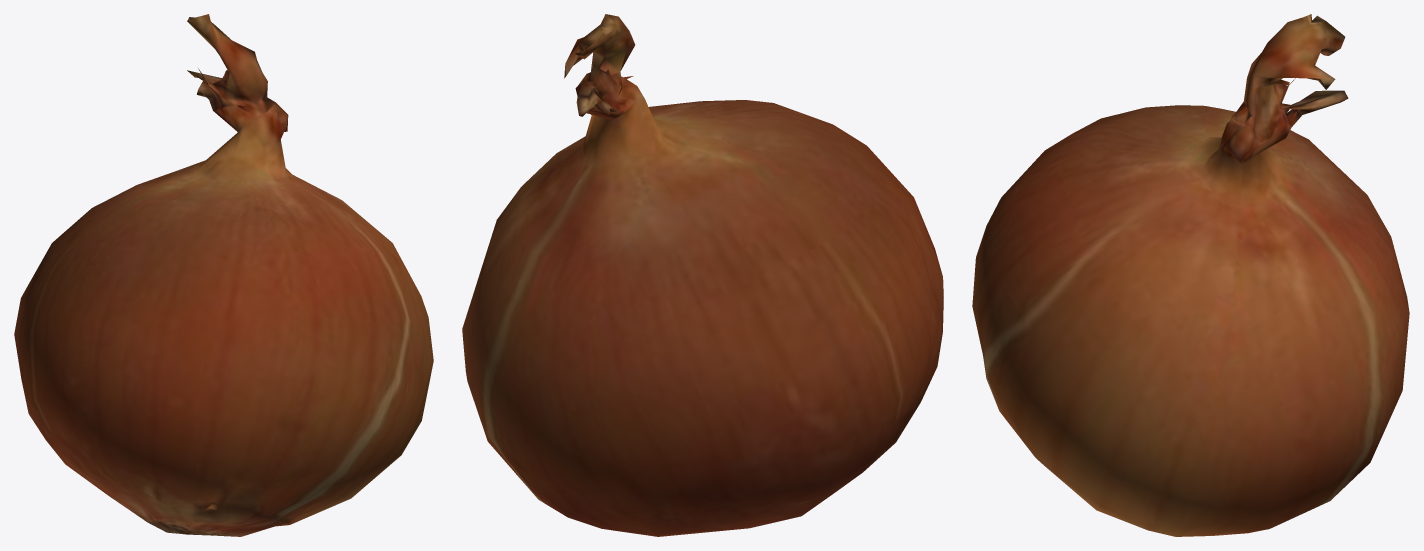
File: yellow_onion.glb
3 renders of one model, left to right at view 1: azimuth 30°, elevation 25°; view 2: azimuth 150°, elevation 25°; view 3: azimuth 270°, elevation 25°, orthographic. The views are drawn at different scales.
Parts seen in each view (by area): view 1: yellow_onion; view 2: yellow_onion; view 3: yellow_onion.
Boxes of the visible parts, x1,y1,x2,y2 form: yellow_onion: (14,14,433,536); yellow_onion: (462,14,943,536); yellow_onion: (972,14,1409,536).
Size of the model in its own units: 0.0722 by 0.0861 by 0.0685.
Materials: 1 (1 with a texture image).
